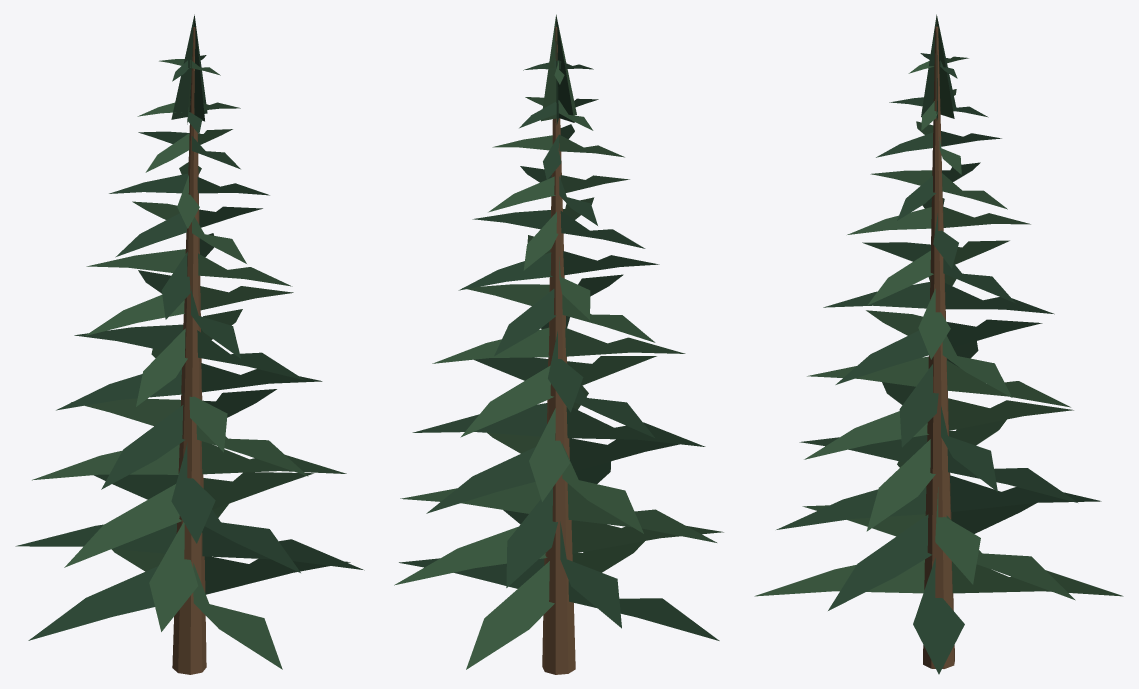
The model's file is detail_pine_old_impostor.glb.
The picture shows the model from 3 angles, left to right: view 1: azimuth 30°, elevation 25°; view 2: azimuth 150°, elevation 25°; view 3: azimuth 270°, elevation 25°; orthographic projection.
Visible parts, largest first — view 1: LayeredFarCrown, FarSilhouetteTrunk; view 2: LayeredFarCrown, FarSilhouetteTrunk; view 3: LayeredFarCrown, FarSilhouetteTrunk.
Boxes of the visible parts, x1,y1,x2,y2 form: LayeredFarCrown: [15, 14, 364, 669]; FarSilhouetteTrunk: [172, 27, 206, 674]; LayeredFarCrown: [394, 14, 723, 669]; FarSilhouetteTrunk: [542, 27, 575, 674]; LayeredFarCrown: [754, 14, 1123, 674]; FarSilhouetteTrunk: [923, 26, 954, 668].
Bounding box in the file's own units: 6.55 × 12.65 × 6.55.
